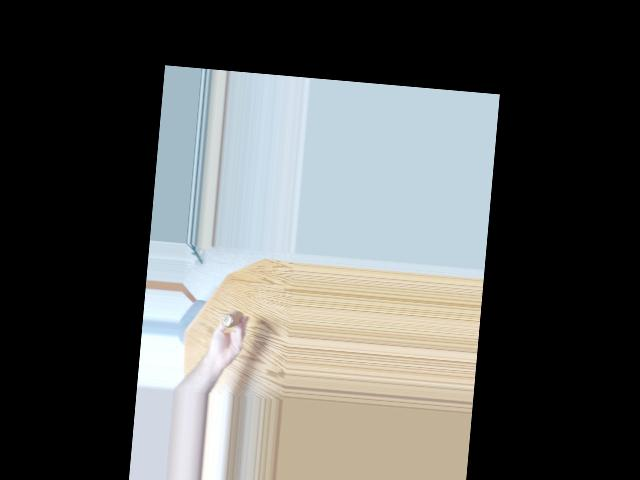sweet_potato: (216, 306, 245, 335)
